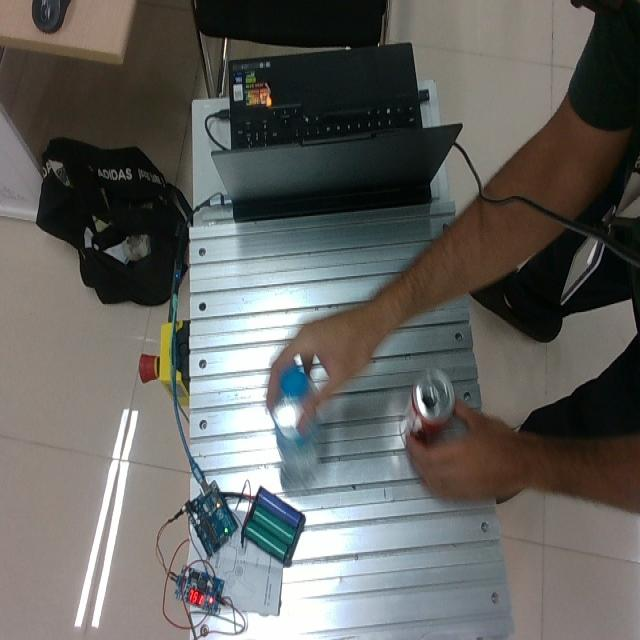coca: (402, 368, 456, 444)
lavie: (268, 362, 326, 489)
